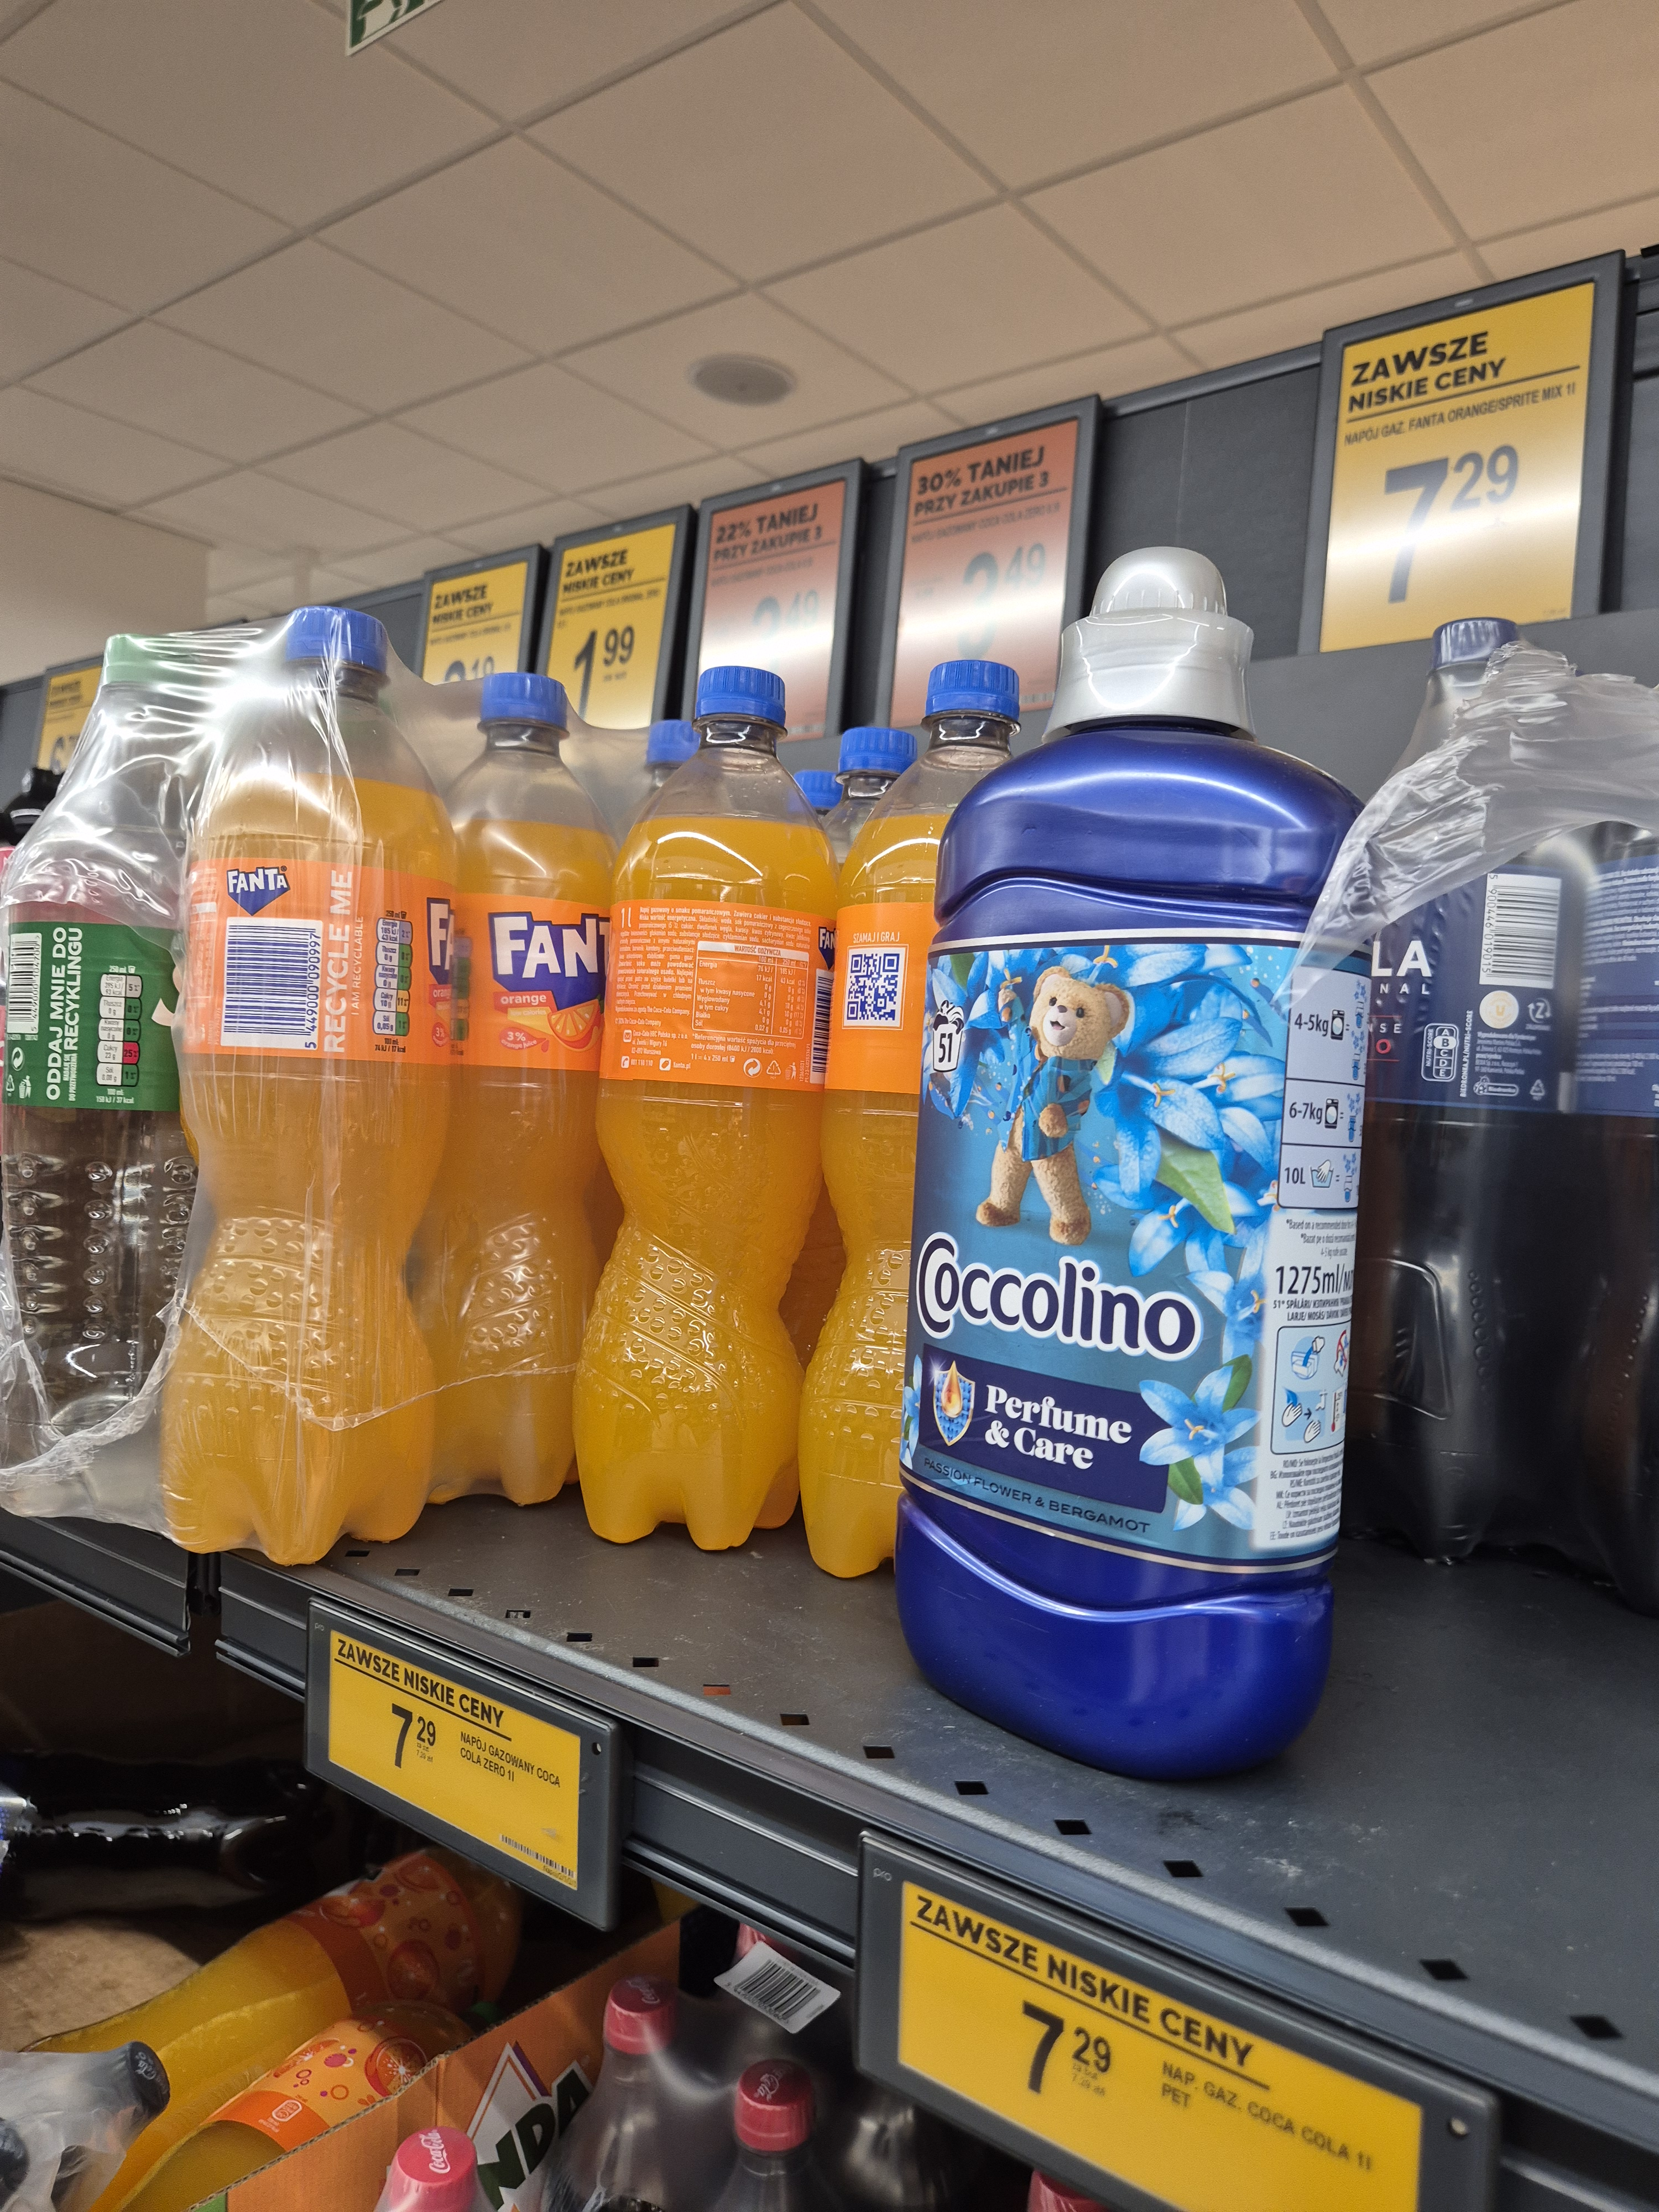cocolino: (962, 563, 1347, 1787)
